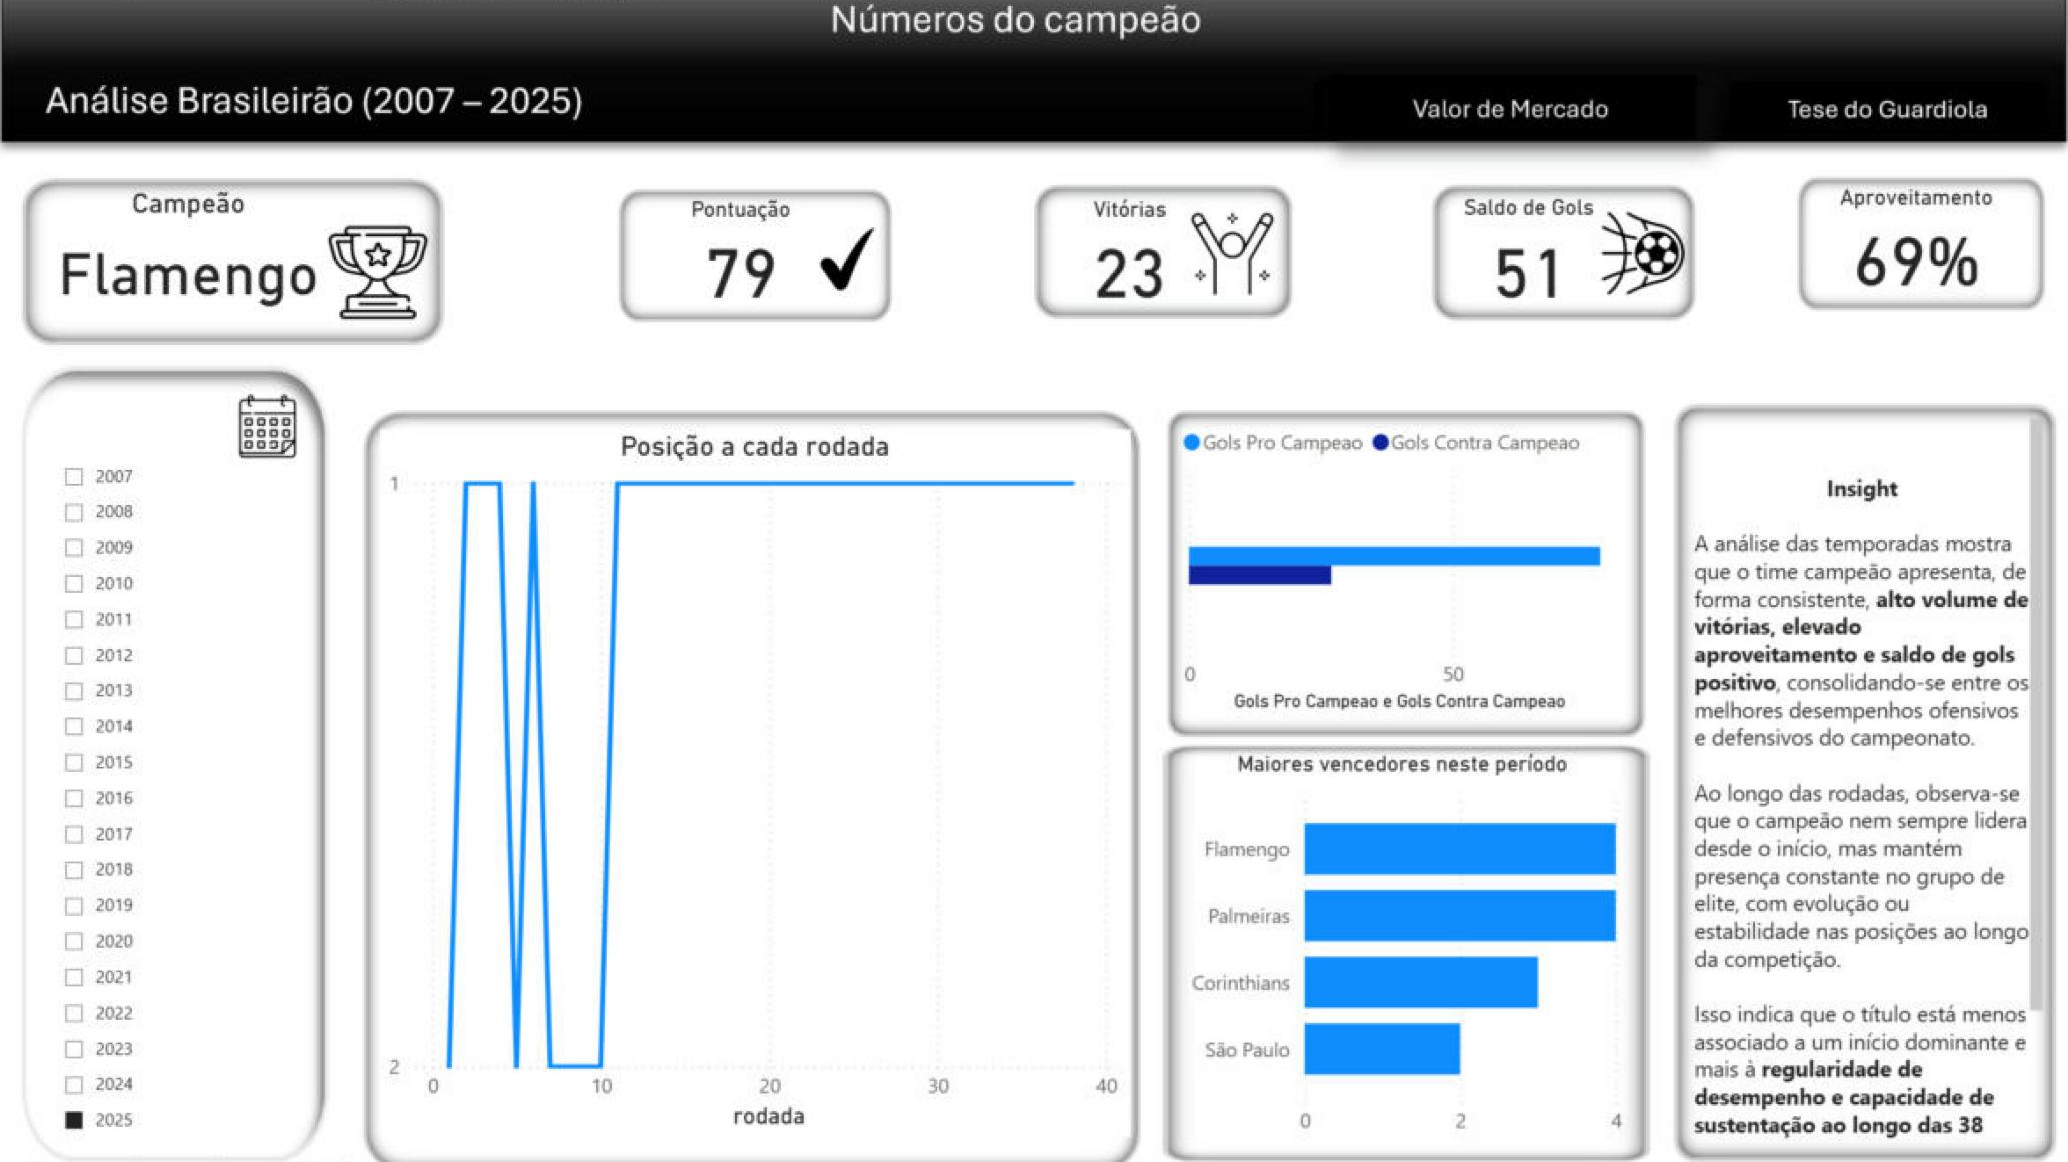

The dashboard page shown, as its layout file describes it:
{"tool":"powerbi","page":{"name":"Página 1","canvas":[1280,720],"ordinal":0},"visuals":[{"type":"slicer","fields":{"Values":["fato_desempenho.temporada"]},"box":[31.9,280.1,120.4,431.3],"z":0},{"type":"card","title":"Aproveitamento","fields":{"Values":["fato_desempenho.Aproveitamento Campeao"]},"box":[1099,117.3,165.9,70],"z":1000},{"type":"card","title":"Campeão","fields":{"Values":["fato_desempenho.Campeao Final"]},"box":[7.4,118.6,226.7,81.7],"z":2000},{"type":"card","title":"Vitórias","fields":{"Values":["fato_desempenho.Vitorias Campeao"]},"box":[629.7,124.7,138.2,70],"z":3000},{"type":"card","title":"Pontuação","fields":{"Values":["fato_desempenho.Pontos Campeao"]},"box":[395,124.7,129.6,70],"z":4000},{"type":"lineChart","title":"Posição a cada rodada","fields":{"Category":["fato_desempenho.rodada"],"Y":["fato_desempenho.Posicao Campeao por Rodada"]},"box":[238.4,267.8,460.8,434.9],"z":5000},{"type":"clusteredBarChart","fields":{"Y":["fato_desempenho.Gols Pro Campeao","fato_desempenho.Gols Contra Campeao"]},"box":[726.1,256.2,280.1,189.2],"z":6000},{"type":"card","title":"Saldo de Gols","fields":{"Values":["fato_desempenho.Saldo Campeao"]},"box":[867.4,123.5,153,72.5],"z":7000},{"type":"textbox","box":[1040.7,256.2,224.2,455.2],"z":8000},{"type":"clusteredBarChart","title":"Maiores vencedores  neste período","fields":{"Category":["fato_desempenho.time"],"Y":["fato_desempenho.Títulos Top 4 Campeões"]},"box":[726.1,465.7,280.1,245.7],"z":9000},{"type":"actionButton","box":[822,49.8,224.8,39.9],"z":10000},{"type":"actionButton","box":[1087.4,49.8,168.3,39.9],"z":11000}]}

Visuals, with their boxes in screenshot pixels (x1, y1, x2, y2), scaled from the page's 1280x720 canvas onto the 2068x1162 screenshot:
slicer - fato_desempenho.temporada: (52,452,246,1148)
"Aproveitamento" card: (1776,189,2044,302)
"Campeão" card: (12,191,378,323)
"Vitórias" card: (1017,201,1241,314)
"Pontuação" card: (638,201,848,314)
"Posição a cada rodada" lineChart: (385,432,1130,1134)
clusteredBarChart - fato_desempenho.Gols Pro Campeao x fato_desempenho.Gols Contra Campeao: (1173,413,1626,719)
"Saldo de Gols" card: (1401,199,1649,316)
textbox: (1681,413,2044,1148)
"Maiores vencedores  neste período" clusteredBarChart: (1173,752,1626,1148)
actionButton: (1328,80,1691,145)
actionButton: (1757,80,2029,145)
